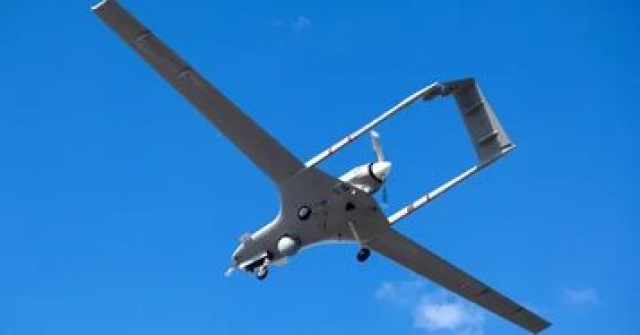military drone: (90, 0, 552, 335)
